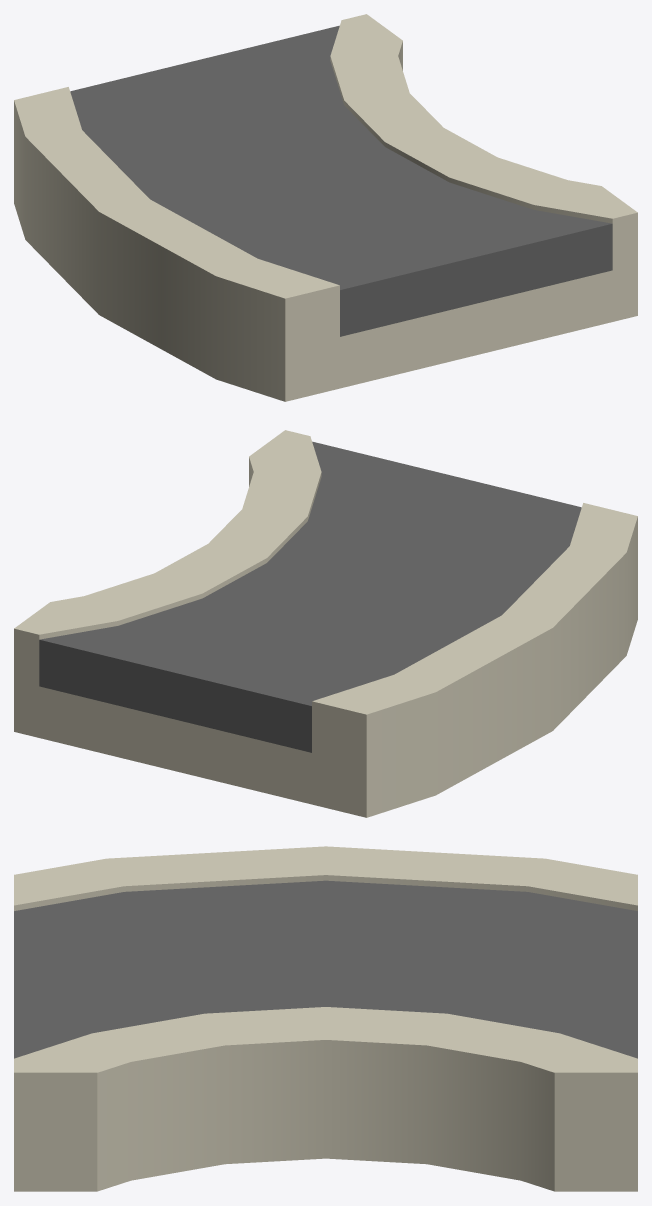
File: tile146.dae
3 views of the same model, one above another, from view 1: azimuth 30°, elevation 25°; view 2: azimuth 150°, elevation 25°; view 3: azimuth 270°, elevation 25° (orthographic). The views are drawn at different scales.
Visible parts, largest first — view 1: tile146; view 2: tile146; view 3: tile146.
Boxes of the visible parts, x1,y1,x2,y2 form: tile146: [14, 14, 637, 401]; tile146: [14, 430, 637, 817]; tile146: [14, 846, 637, 1191].
Size of the model in its own units: 0.8585 by 0.21 by 1.
